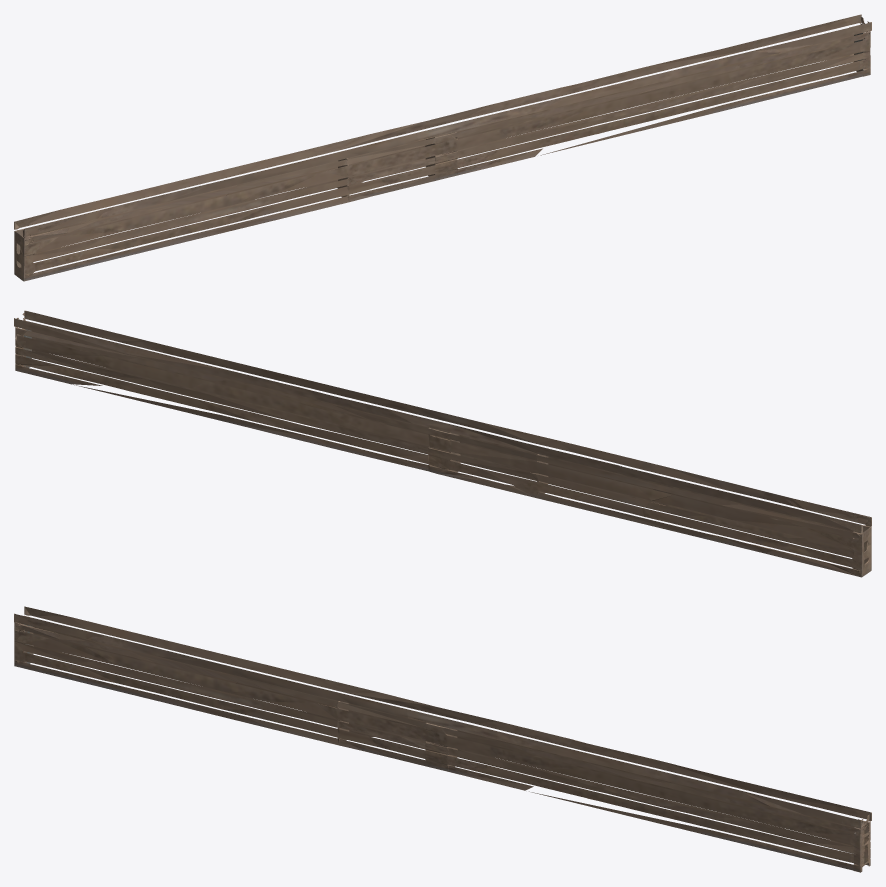
File: produce-crate.glb
The picture shows the model from 3 angles, top to bottom: view 1: azimuth 30°, elevation 25°; view 2: azimuth 150°, elevation 25°; view 3: azimuth 330°, elevation 25°; orthographic projection.
Visible parts, largest first — view 1: Mesh_0; view 2: Mesh_0; view 3: Mesh_0.
Part boxes in pixels (x1,y1,x2,y2): Mesh_0: (14,14,871,281); Mesh_0: (14,310,871,577); Mesh_0: (14,606,871,872).
Bounding box in the file's own units: 1.9 × 0.1137 × 0.0422.
Materials: 1 (1 with a texture image).
